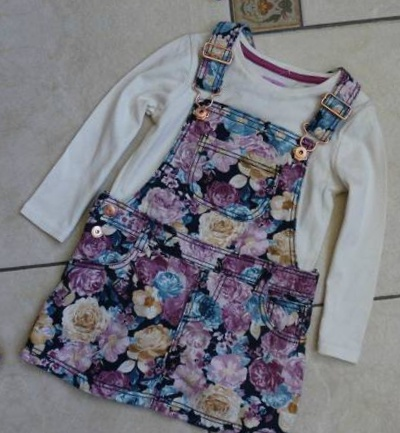Dress: (0, 24, 400, 433), (0, 66, 20, 433), (396, 0, 400, 433), (0, 0, 390, 4)
